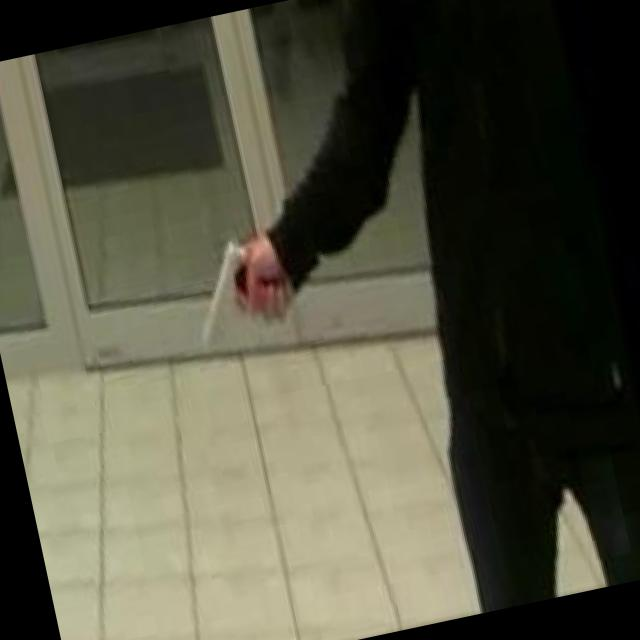Guns: (172, 215, 301, 358)
